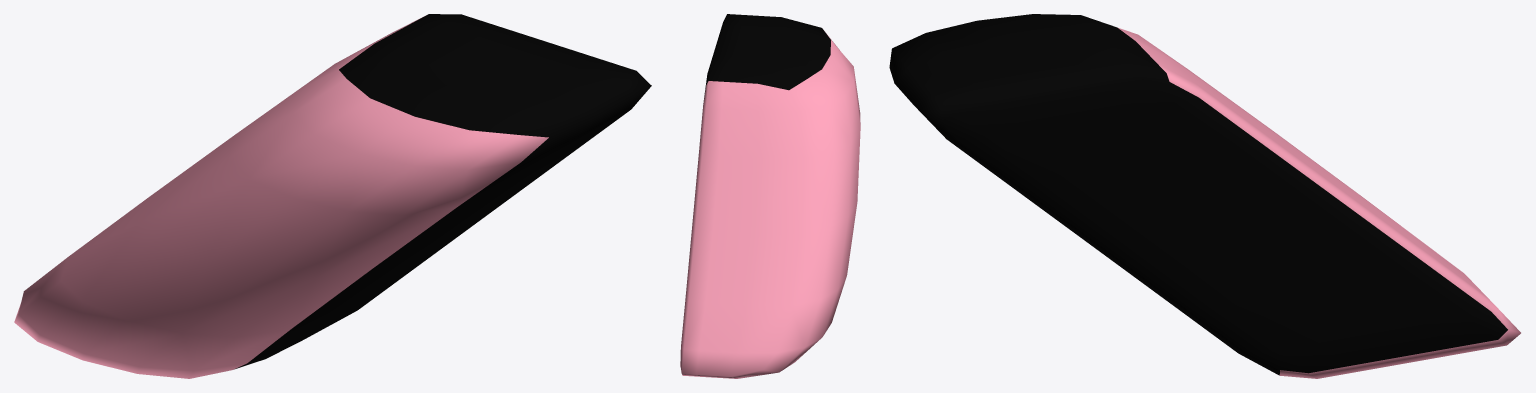
The picture shows the model from 3 angles, left to right: view 1: azimuth 30°, elevation 25°; view 2: azimuth 150°, elevation 25°; view 3: azimuth 270°, elevation 25°; orthographic projection. The views are drawn at different scales.
Parts seen in each view (by area): view 1: Box1242; view 2: Box1242; view 3: Box1242.
Boxes of the visible parts, <box> form: Box1242: <box>14,14,651,378</box>; Box1242: <box>680,14,860,378</box>; Box1242: <box>889,14,1520,378</box>.
Bounding box in the file's own units: 0.0395 × 0.0357 × 0.0596.
